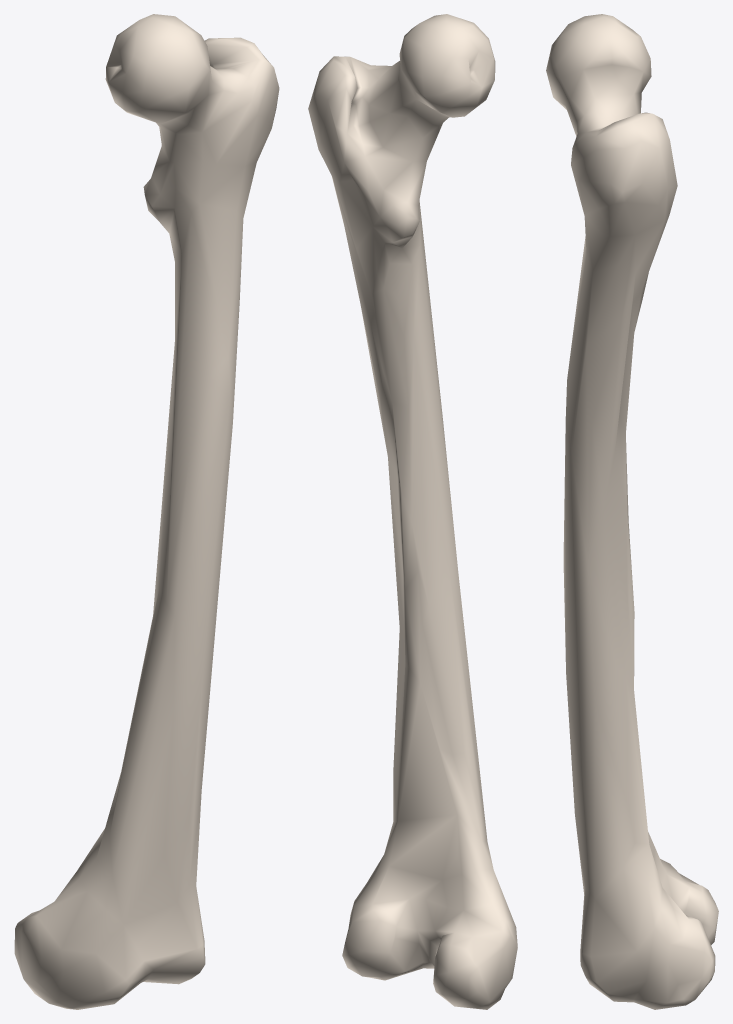
Rendered from left_femur.glb.
The picture shows the model from 3 angles, left to right: view 1: azimuth 30°, elevation 25°; view 2: azimuth 150°, elevation 25°; view 3: azimuth 270°, elevation 25°; orthographic projection. The views are drawn at different scales.
Visible parts, largest first — view 1: Femur.r; view 2: Femur.r; view 3: Femur.r.
Part boxes in pixels (bbox=[...]): Femur.r: bbox=[14, 14, 279, 1009]; Femur.r: bbox=[308, 14, 517, 1009]; Femur.r: bbox=[546, 14, 718, 1009].
Size of the model in its own units: 0.1107 by 0.4599 by 0.0739.
